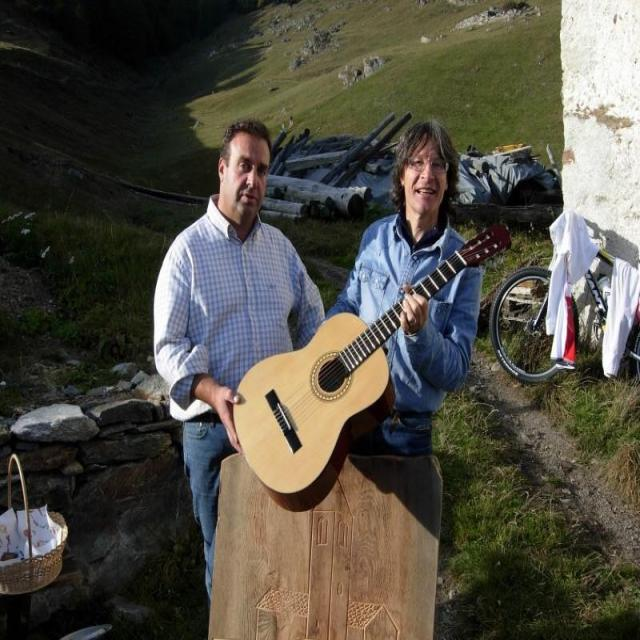guitar: (226, 214, 521, 515)
